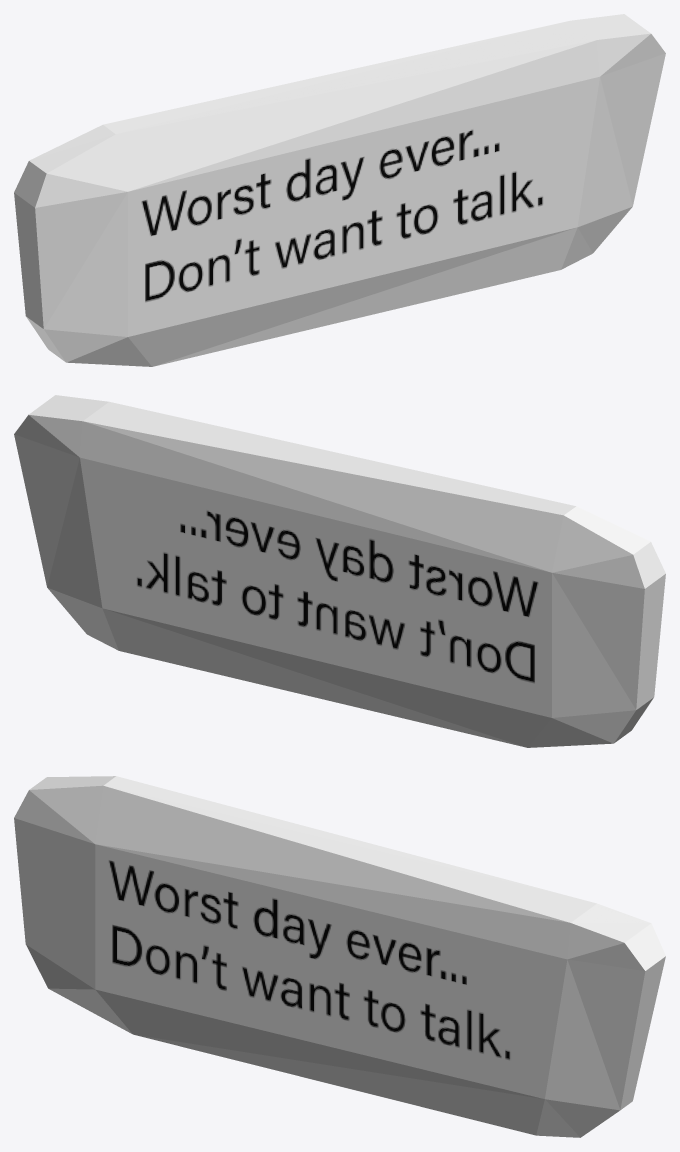
File: 042620ant01textBubbleTextured.gltf
3 renders of one model, top to bottom at view 1: azimuth 30°, elevation 25°; view 2: azimuth 150°, elevation 25°; view 3: azimuth 330°, elevation 25°, orthographic.
Parts seen in each view (by area): view 1: ant01; view 2: ant01; view 3: ant01.
Part boxes in pixels (bbox=[...]): ant01: bbox=[14, 14, 665, 366]; ant01: bbox=[14, 395, 665, 747]; ant01: bbox=[14, 776, 665, 1137].
Bounding box in the file's own units: 4.54 × 1.64 × 0.4079.
Materials: 1 (1 with a texture image).
